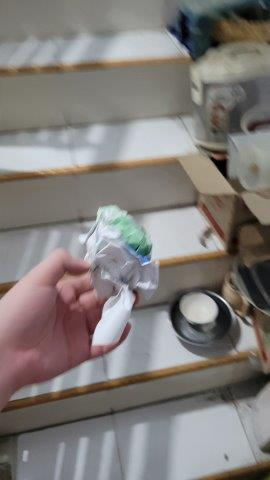kertas: (75, 205, 161, 349)
